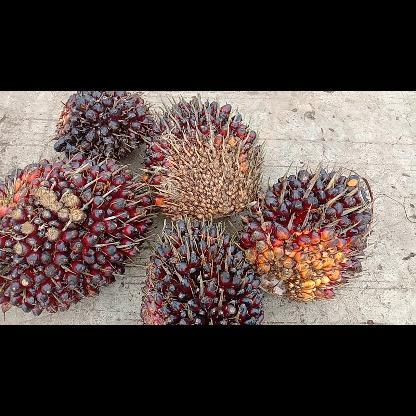TBS mentah: (0, 153, 157, 315), (236, 162, 374, 300), (140, 92, 264, 220), (141, 216, 263, 324), (54, 91, 154, 157)
